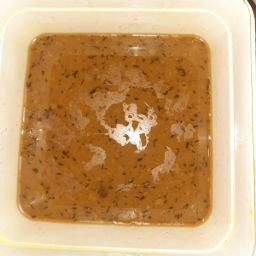Chicken Broth: (19, 31, 212, 220), (139, 35, 209, 229), (83, 36, 138, 225), (33, 42, 79, 221)
